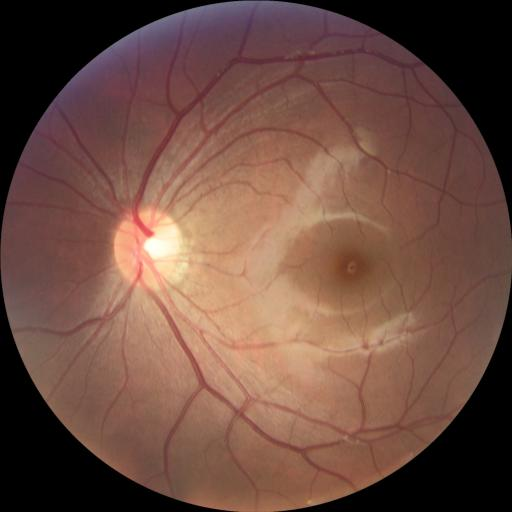Optic Cup: (139, 236, 171, 262)
Optic Disc: (114, 208, 187, 287)
